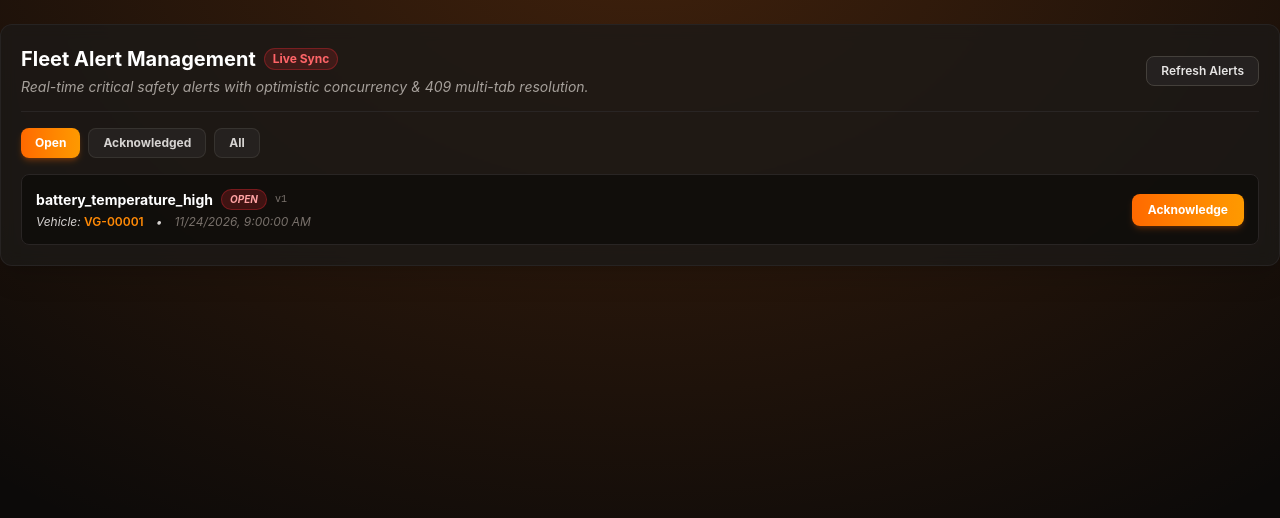
AlertsPanel - optimistic update, rollback, and 409 handling › renders alerts and handles optimistic acknowledge on success
The image size is (1280, 518).
Check: the heading "battery_temperature_high" is shown, box [36, 190, 213, 210]
Click the button "Acknowledge".
click(1188, 210)  # box [1132, 194, 1244, 226]
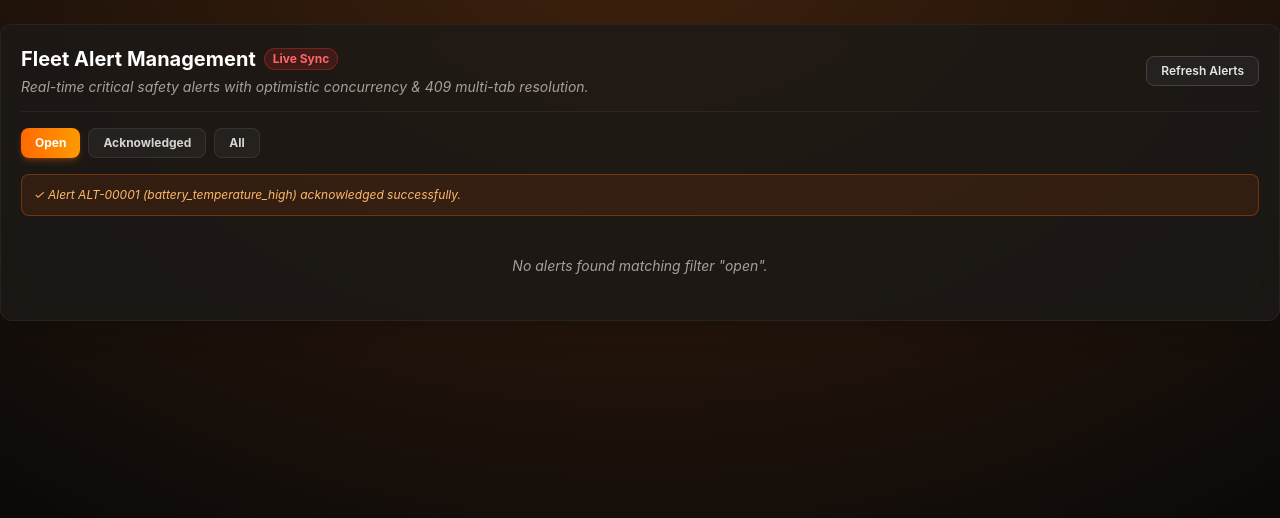
Check: the text "✓ Alert ALT-00001 (battery_temperature_high) acknowledged successfully." is shown, box [21, 174, 1259, 216]
